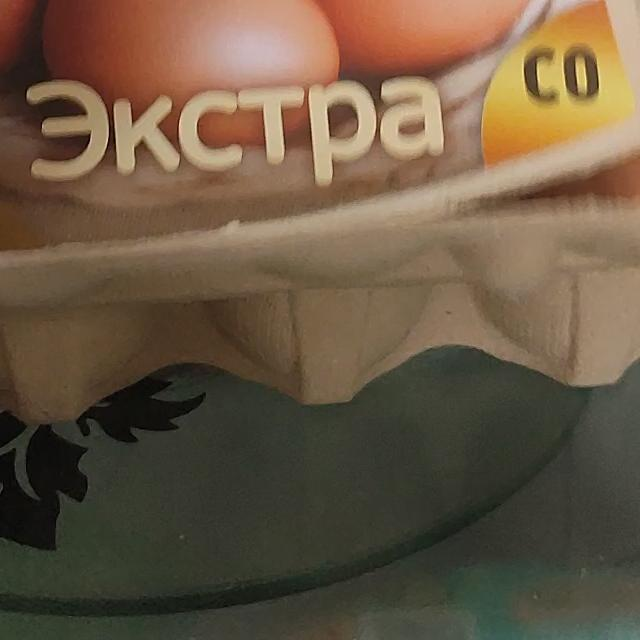egg: (0, 0, 640, 431)
